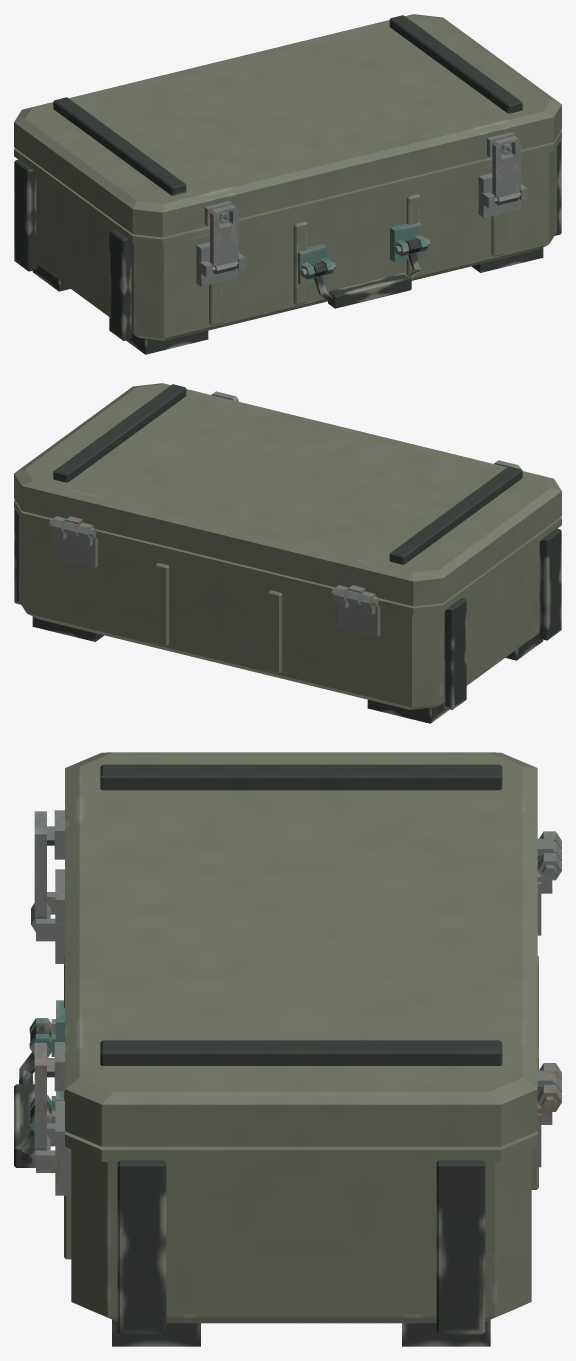
File: hills_field_equipment_case_closed.glb
3 renders of one model, top to bottom at view 1: azimuth 30°, elevation 25°; view 2: azimuth 150°, elevation 25°; view 3: azimuth 270°, elevation 25°, orthographic. The views are drawn at different scales.
Visible parts, largest first — view 1: CaseClosed; view 2: CaseClosed; view 3: CaseClosed.
Part boxes in pixels (x1,y1,x2,y2): CaseClosed: (14, 14, 561, 354); CaseClosed: (14, 383, 561, 723); CaseClosed: (14, 752, 561, 1346).
Size of what is drawn, in the model's own units: 0.7 by 0.25 by 0.45.
Materials: 1 (1 with a texture image).
